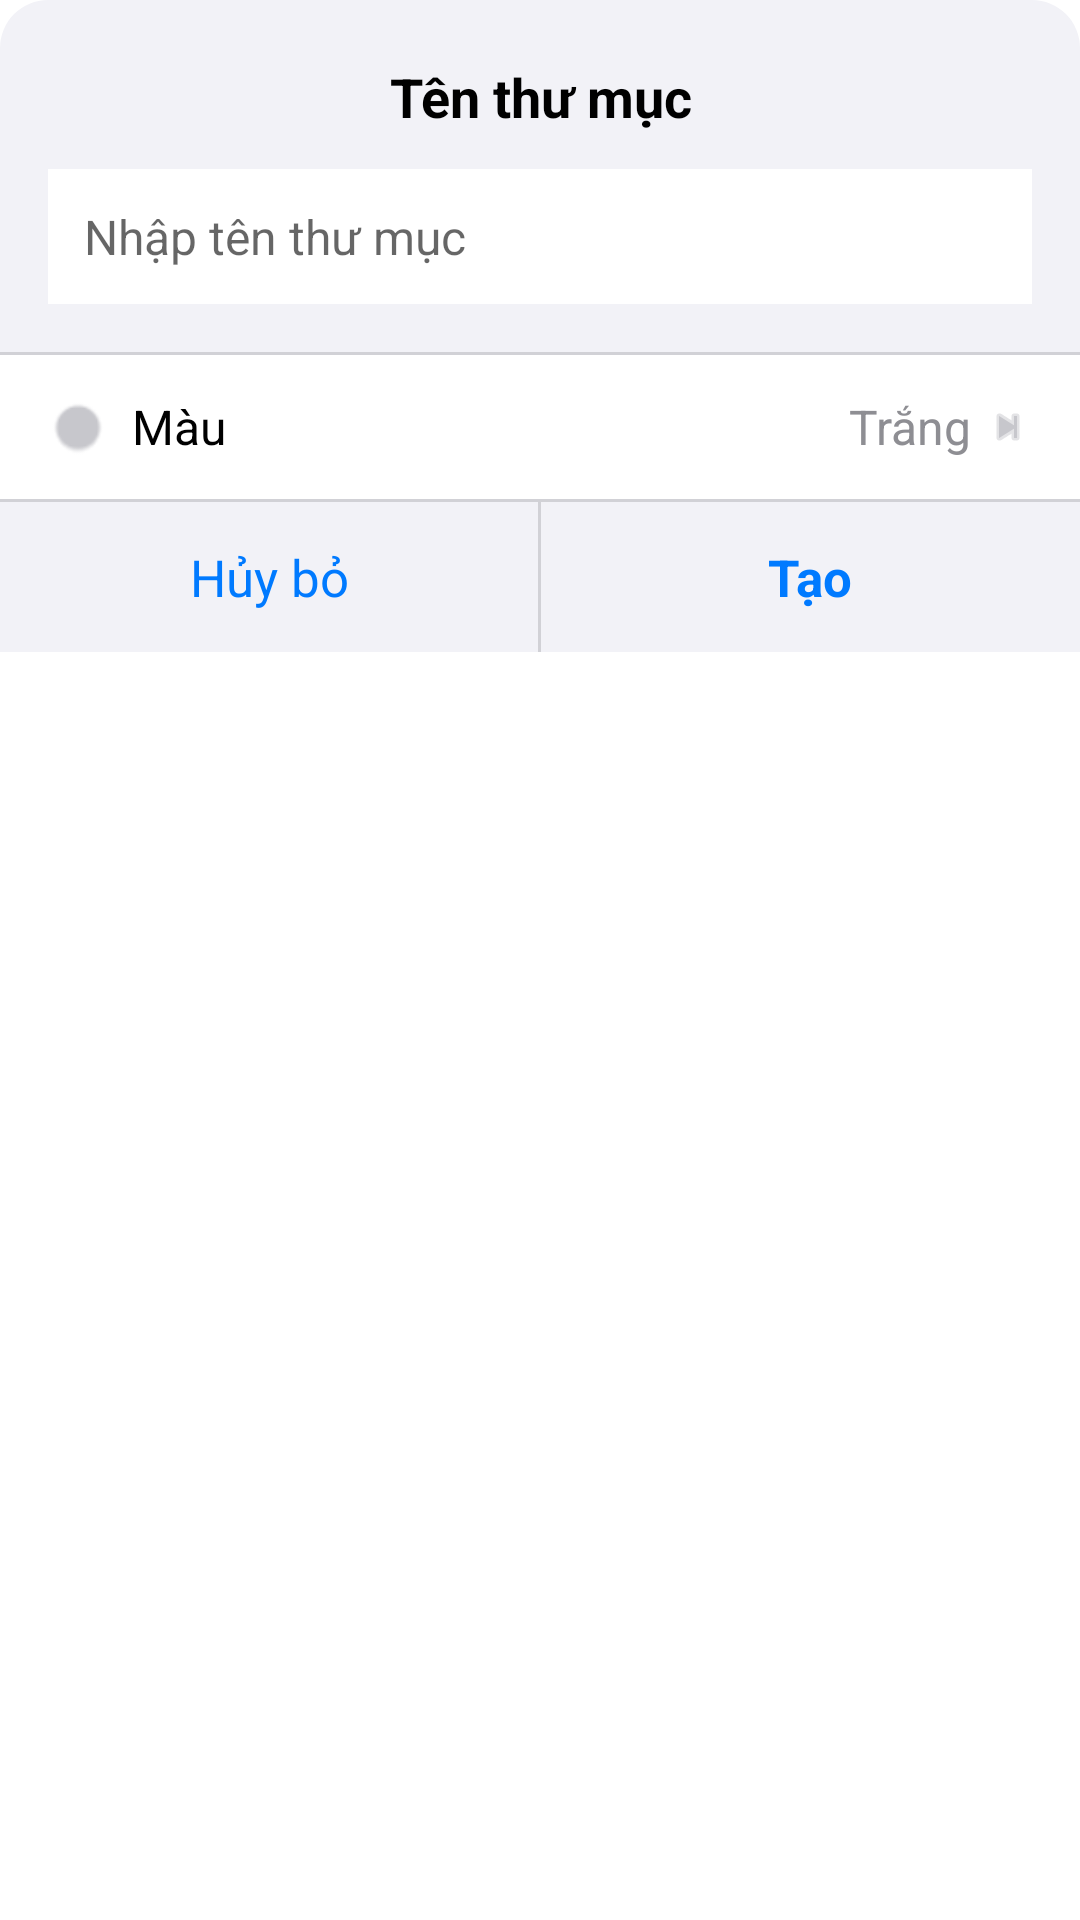

Named icons in this screenshot (1080px x 1920px) and their bounding boxes, bbox=[x1, y1, x2, y2]:
next: bbox=[997, 414, 1019, 440]
